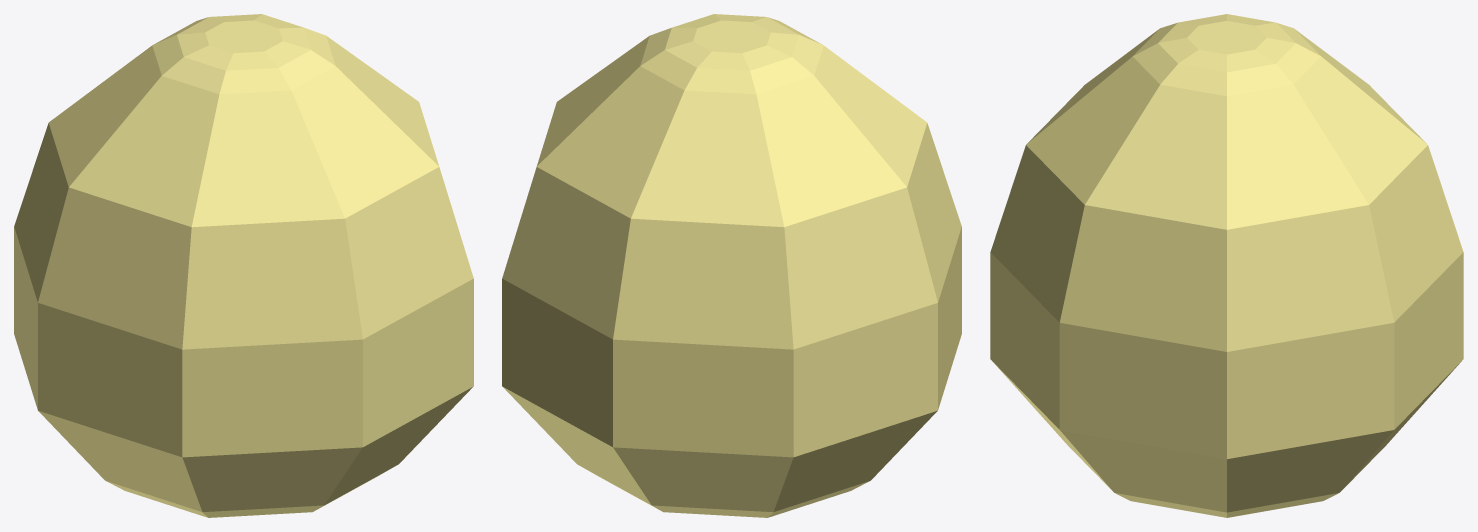
The model's file is egg.glb.
3 renders of one model, left to right at view 1: azimuth 30°, elevation 25°; view 2: azimuth 150°, elevation 25°; view 3: azimuth 270°, elevation 25°, orthographic.
Visible parts, largest first — view 1: Egg; view 2: Egg; view 3: Egg.
Part boxes in pixels (x1,y1,x2,y2): Egg: (14, 14, 473, 517); Egg: (502, 14, 961, 517); Egg: (990, 14, 1463, 517).
Size of the model in its own units: 1 by 1 by 1.
1 material, 1 textured.
